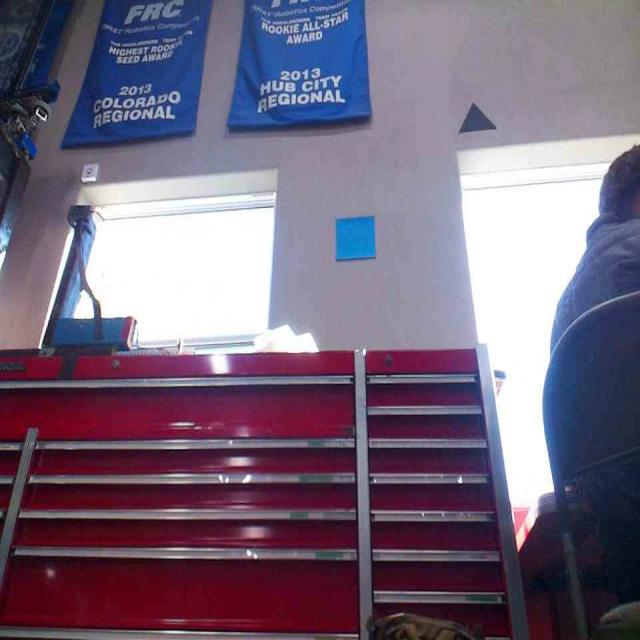square_blue: (333, 215, 376, 261)
triangle_black: (459, 100, 496, 132)
